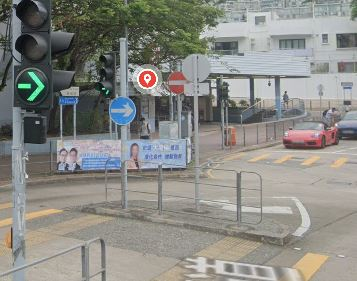No Enter: (168, 71, 190, 95)
Turn Right: (108, 94, 137, 127)
